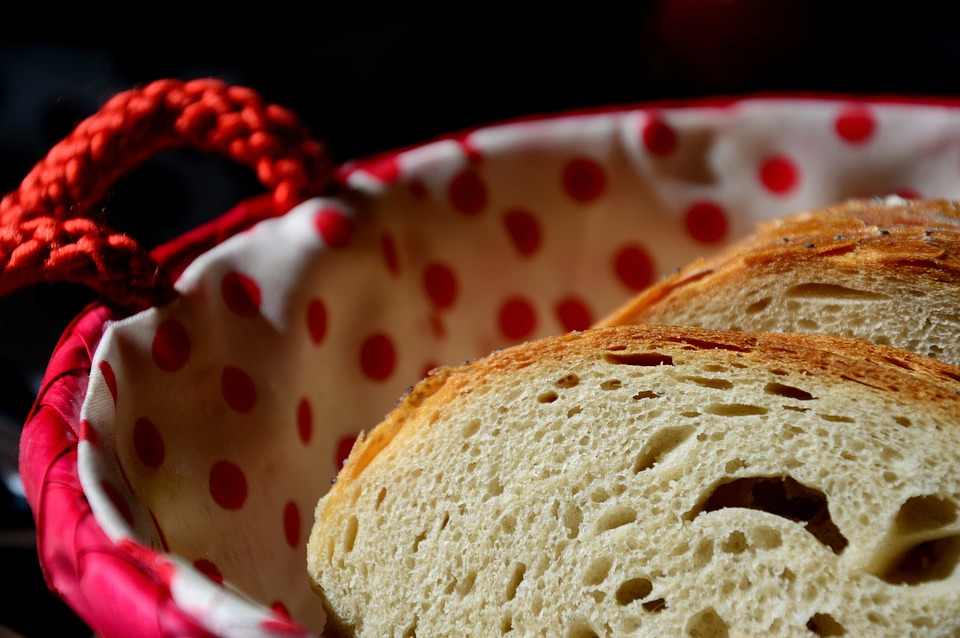slice of bread: (329, 341, 951, 638), (626, 189, 960, 361)
